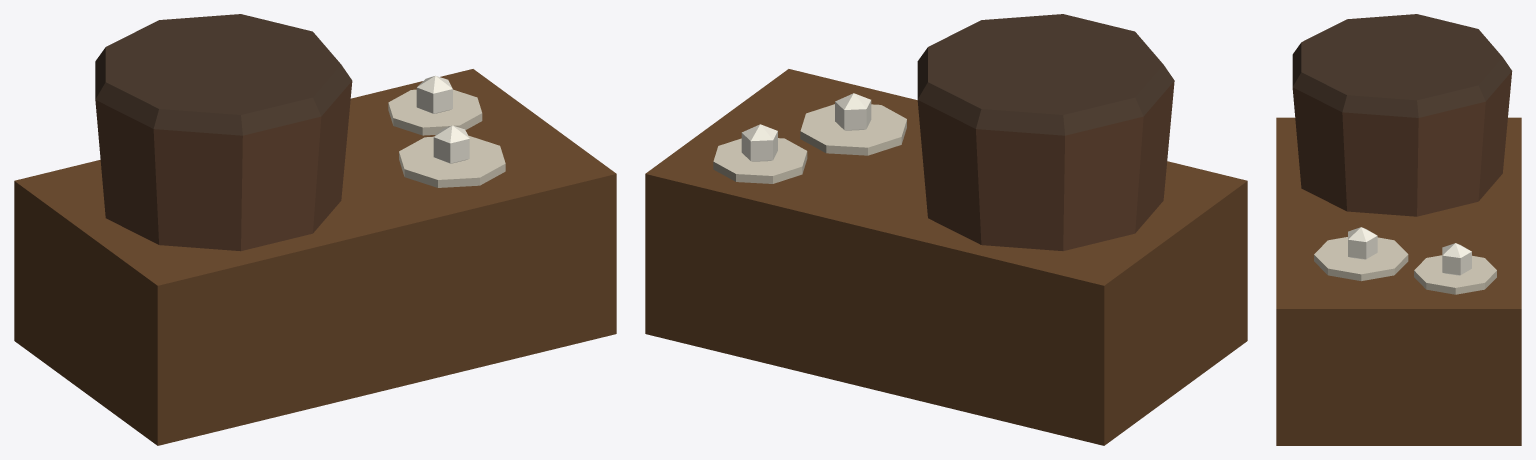
The model's file is market_ricecake_stall.glb.
The picture shows the model from 3 angles, left to right: view 1: azimuth 30°, elevation 25°; view 2: azimuth 150°, elevation 25°; view 3: azimuth 270°, elevation 25°; orthographic projection. The views are drawn at different scales.
Parts seen in each view (by area): view 1: market_ricecake_stall; view 2: market_ricecake_stall; view 3: market_ricecake_stall.
Part boxes in pixels (left/top/right/bottom): market_ricecake_stall: left=14, top=14, right=616, bottom=445; market_ricecake_stall: left=645, top=14, right=1247, bottom=445; market_ricecake_stall: left=1276, top=14, right=1521, bottom=445.
Bounding box in the file's own units: 2.4 × 1.48 × 1.3.
